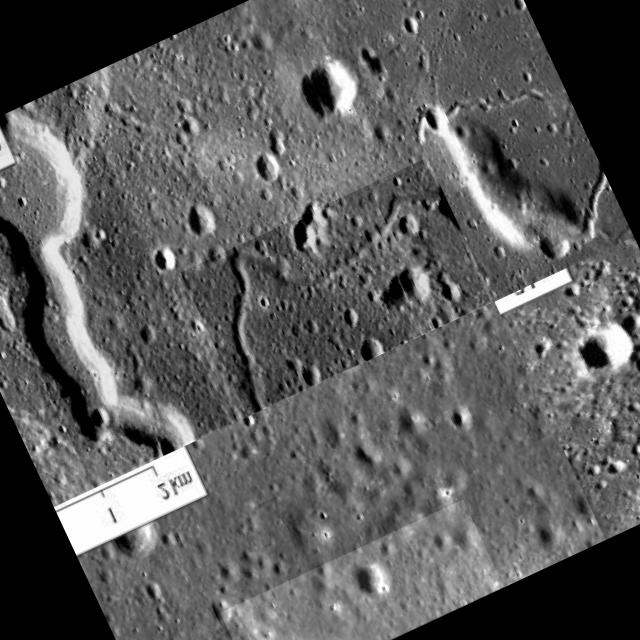rille: (0, 82, 230, 486), (181, 159, 491, 415), (407, 57, 616, 300), (220, 499, 503, 640), (542, 136, 626, 245)
